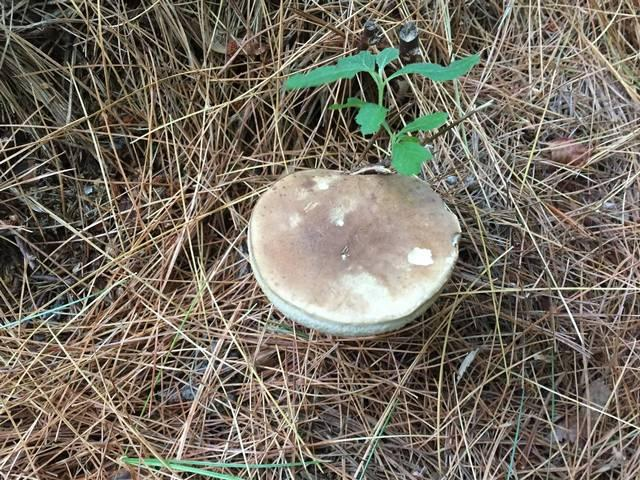poisonous_mushroom: (245, 167, 462, 338)
